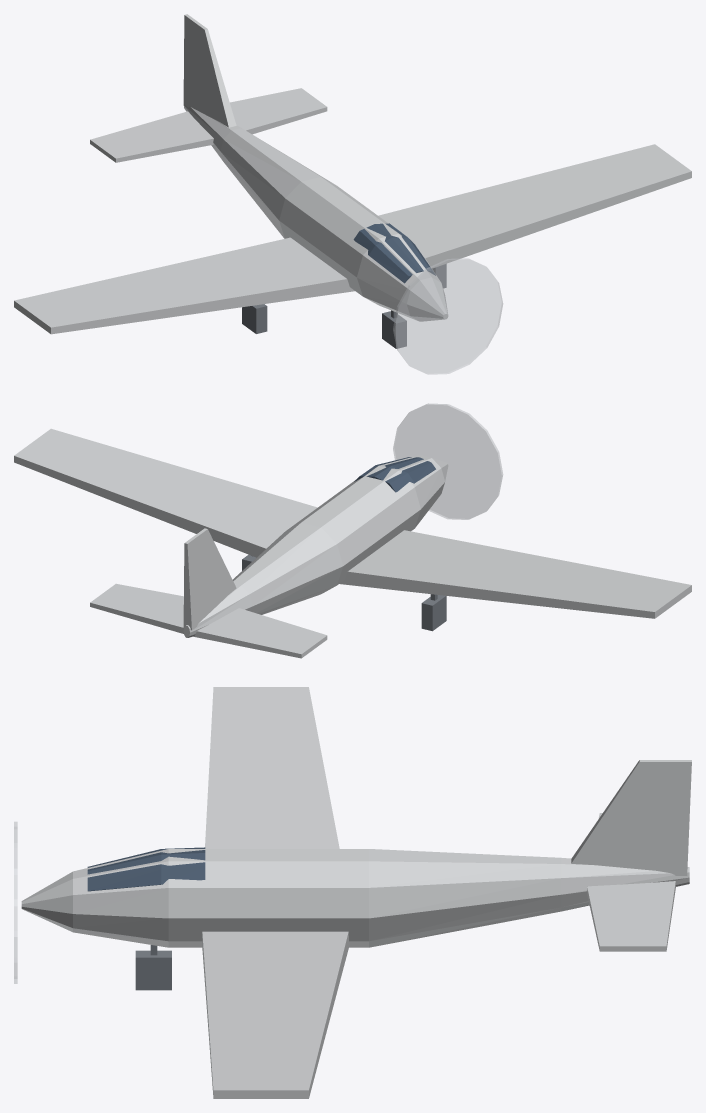
Rendered from ga-single-low.glb.
The picture shows the model from 3 angles, top to bottom: view 1: azimuth 30°, elevation 25°; view 2: azimuth 150°, elevation 25°; view 3: azimuth 270°, elevation 25°; orthographic projection. The views are drawn at different scales.
Parts seen in each view (by area): view 1: ga-single-low; view 2: ga-single-low; view 3: ga-single-low.
Boxes of the visible parts, x1,y1,x2,y2 form: ga-single-low: (14,14,691,374); ga-single-low: (14,403,691,658); ga-single-low: (14,687,691,1098).
Bounding box in the file's own units: 1 × 0.2614 × 0.7104.
